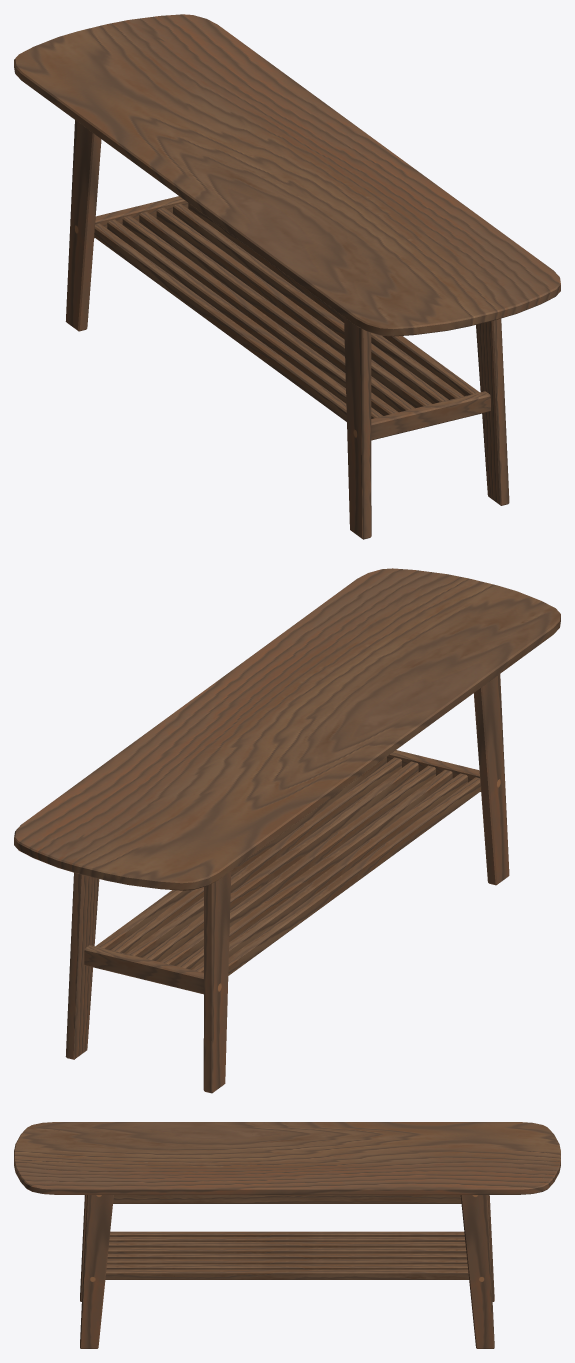
The model's file is Table3.glb.
3 views of the same model, one above another, from view 1: azimuth 30°, elevation 25°; view 2: azimuth 150°, elevation 25°; view 3: azimuth 270°, elevation 25° (orthographic). The views are drawn at different scales.
Parts seen in each view (by area): view 1: Cube.034; view 2: Cube.034; view 3: Cube.034.
Boxes of the visible parts, left/top/right/bottom form: Cube.034: left=14, top=14, right=560, bottom=539; Cube.034: left=14, top=568, right=560, bottom=1093; Cube.034: left=14, top=1122, right=560, bottom=1348.
Bounding box in the file's own units: 0.5237 × 0.6139 × 1.8.
Materials: 1 (1 with a texture image).
